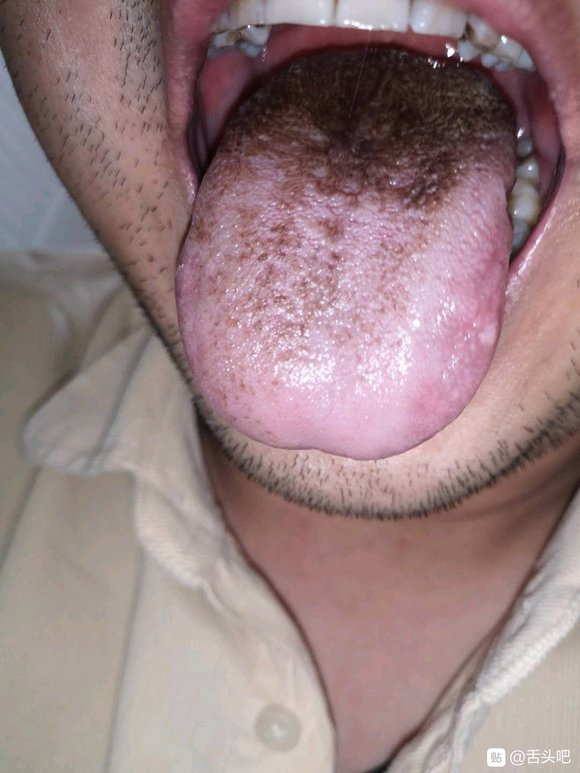heitaishe: (174, 48, 515, 458)
